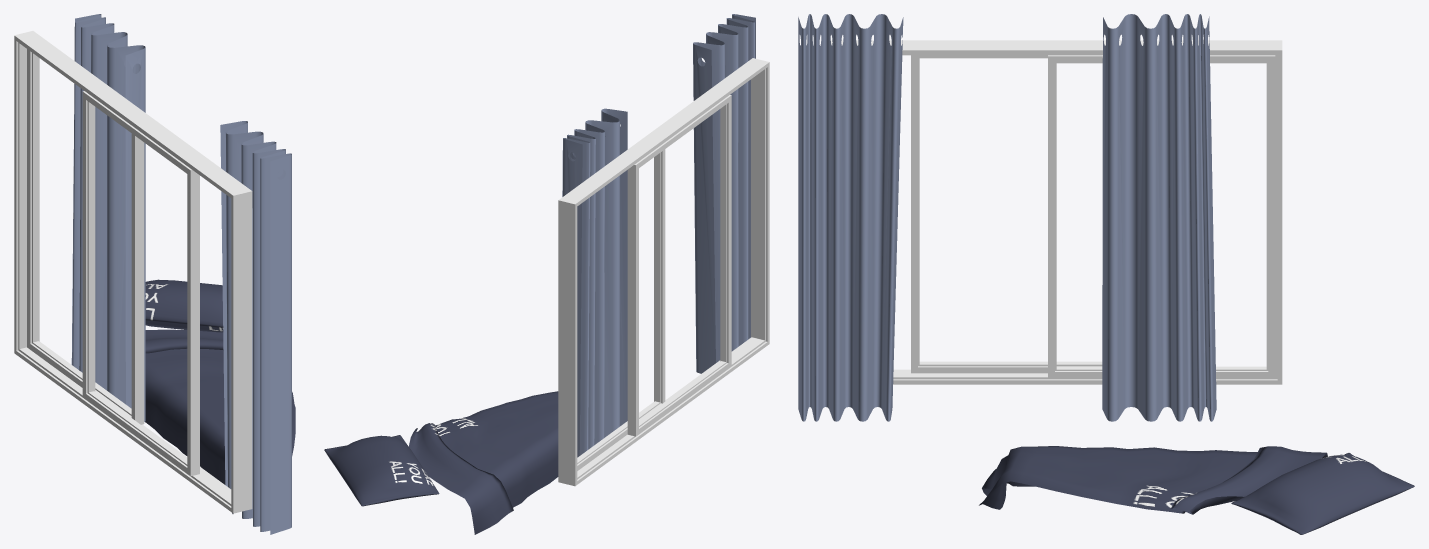
Rendered from Curtain_Lv3.FBX.
3 renders of one model, left to right at view 1: azimuth 30°, elevation 25°; view 2: azimuth 150°, elevation 25°; view 3: azimuth 270°, elevation 25°, orthographic. The views are drawn at different scales.
Visible parts, largest first — view 1: Obj_Window_Edge, Obj_blinder_Lv02, Obj_blinder_Lv2, Obj_Window_Edge_02, obj_bed_Lv_02, obj_bed_Lv2; view 2: Obj_Window_Edge, Obj_blinder_Lv2, Obj_blinder_Lv02, obj_bed_Lv_02, Obj_Window_Edge_02, obj_bed_Lv2; view 3: Obj_blinder_Lv2, Obj_blinder_Lv02, Obj_Window_Edge, obj_bed_Lv_02, obj_bed_Lv2, Obj_Window_Edge_02.
Boxes of the visible parts, x1,y1,x2,y2 form: Obj_Window_Edge: [14, 31, 252, 513]; Obj_blinder_Lv02: [220, 121, 291, 534]; Obj_blinder_Lv2: [71, 14, 145, 421]; Obj_Window_Edge_02: [82, 91, 199, 476]; obj_bed_Lv_02: [145, 329, 295, 513]; obj_bed_Lv2: [145, 279, 223, 332]; Obj_Window_Edge: [558, 58, 769, 486]; Obj_blinder_Lv2: [562, 108, 627, 457]; Obj_blinder_Lv02: [693, 14, 755, 373]; obj_bed_Lv_02: [409, 391, 558, 534]; Obj_Window_Edge_02: [627, 95, 731, 436]; obj_bed_Lv2: [324, 435, 439, 506]; Obj_blinder_Lv2: [1102, 14, 1216, 421]; Obj_blinder_Lv02: [798, 14, 903, 421]; Obj_Window_Edge: [821, 40, 1282, 384]; obj_bed_Lv_02: [979, 446, 1327, 514]; obj_bed_Lv2: [1231, 453, 1414, 534]; Obj_Window_Edge_02: [911, 55, 1102, 373].
Size of the model in its own units: 56.67 by 85.7 by 105.
